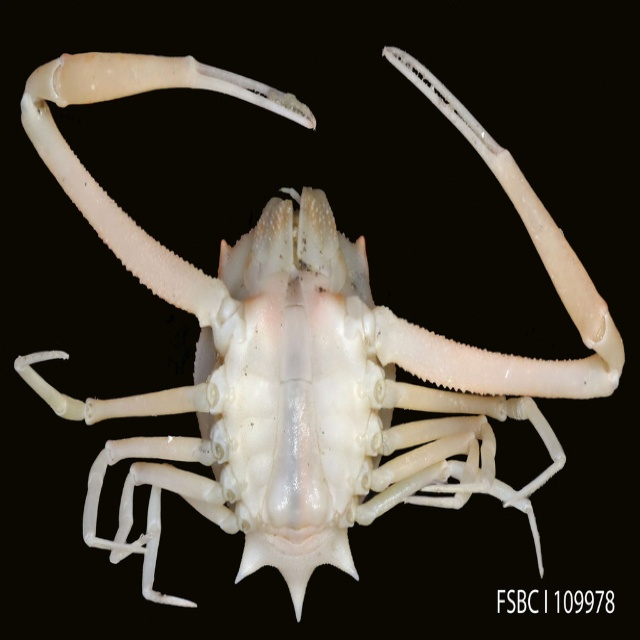Crab: (11, 50, 631, 627)
